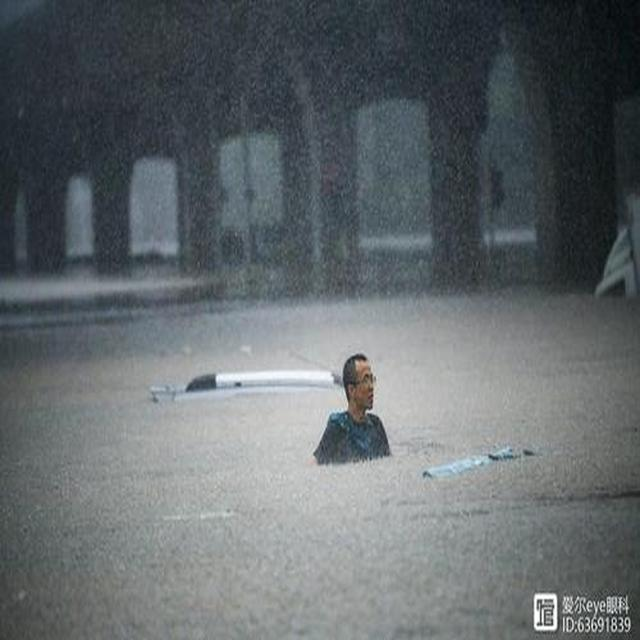Person-RiskLevel3: (308, 345, 409, 484)
